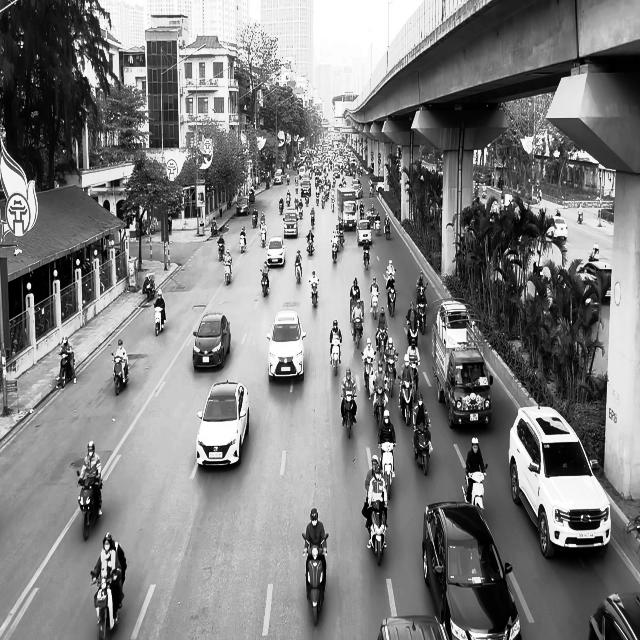car: (508, 405, 611, 559), (422, 500, 522, 640), (196, 379, 249, 469), (266, 308, 306, 382), (588, 592, 640, 640), (192, 313, 230, 370), (266, 236, 286, 266), (545, 216, 568, 240)
motorbike: (302, 531, 328, 626), (90, 570, 122, 640), (76, 470, 102, 540), (365, 502, 388, 566), (462, 464, 488, 509), (377, 440, 396, 498), (412, 422, 432, 476), (111, 352, 129, 395), (341, 392, 356, 438), (57, 352, 76, 388), (329, 336, 341, 376), (154, 304, 165, 336), (260, 268, 270, 296), (145, 273, 155, 301), (309, 280, 318, 308), (224, 257, 232, 285), (294, 258, 302, 284), (306, 232, 314, 255), (363, 244, 370, 270), (217, 239, 224, 261), (239, 232, 246, 253)
